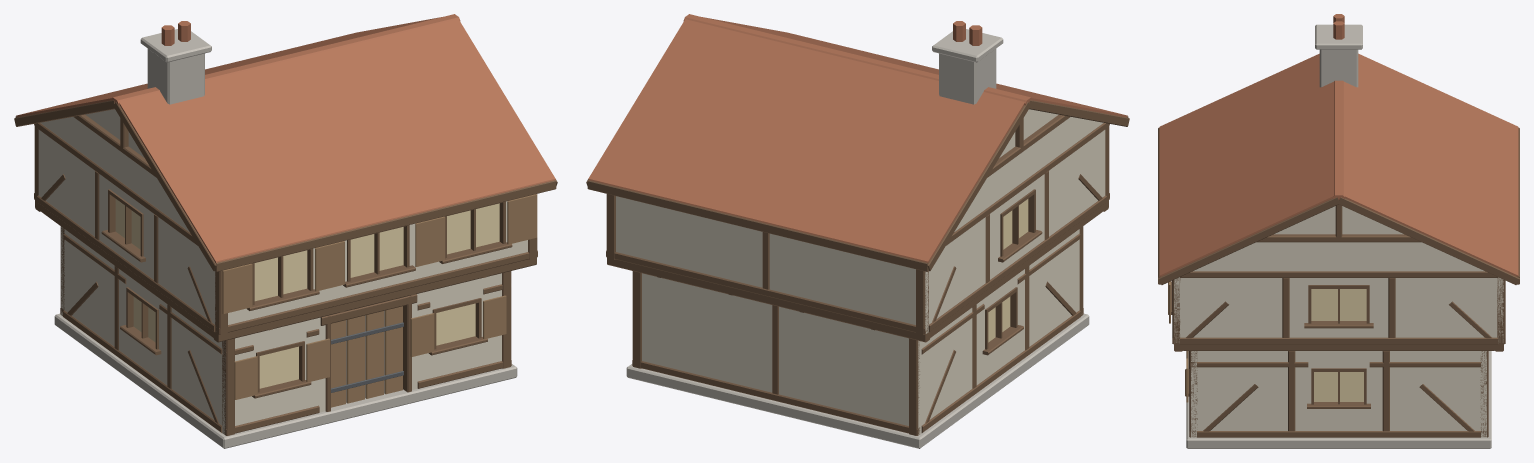
File: house_a.glb
3 views of the same model, side by side, from view 1: azimuth 30°, elevation 25°; view 2: azimuth 150°, elevation 25°; view 3: azimuth 270°, elevation 25° (orthographic). The views are drawn at different scales.
Visible parts, largest first — view 1: house_a; view 2: house_a; view 3: house_a.
Part boxes in pixels (x1,y1,x2,y2): house_a: (14, 14, 557, 448); house_a: (586, 14, 1129, 448); house_a: (1158, 14, 1519, 448).
Bounding box in the file's own units: 12.81 × 12.61 × 13.04.
